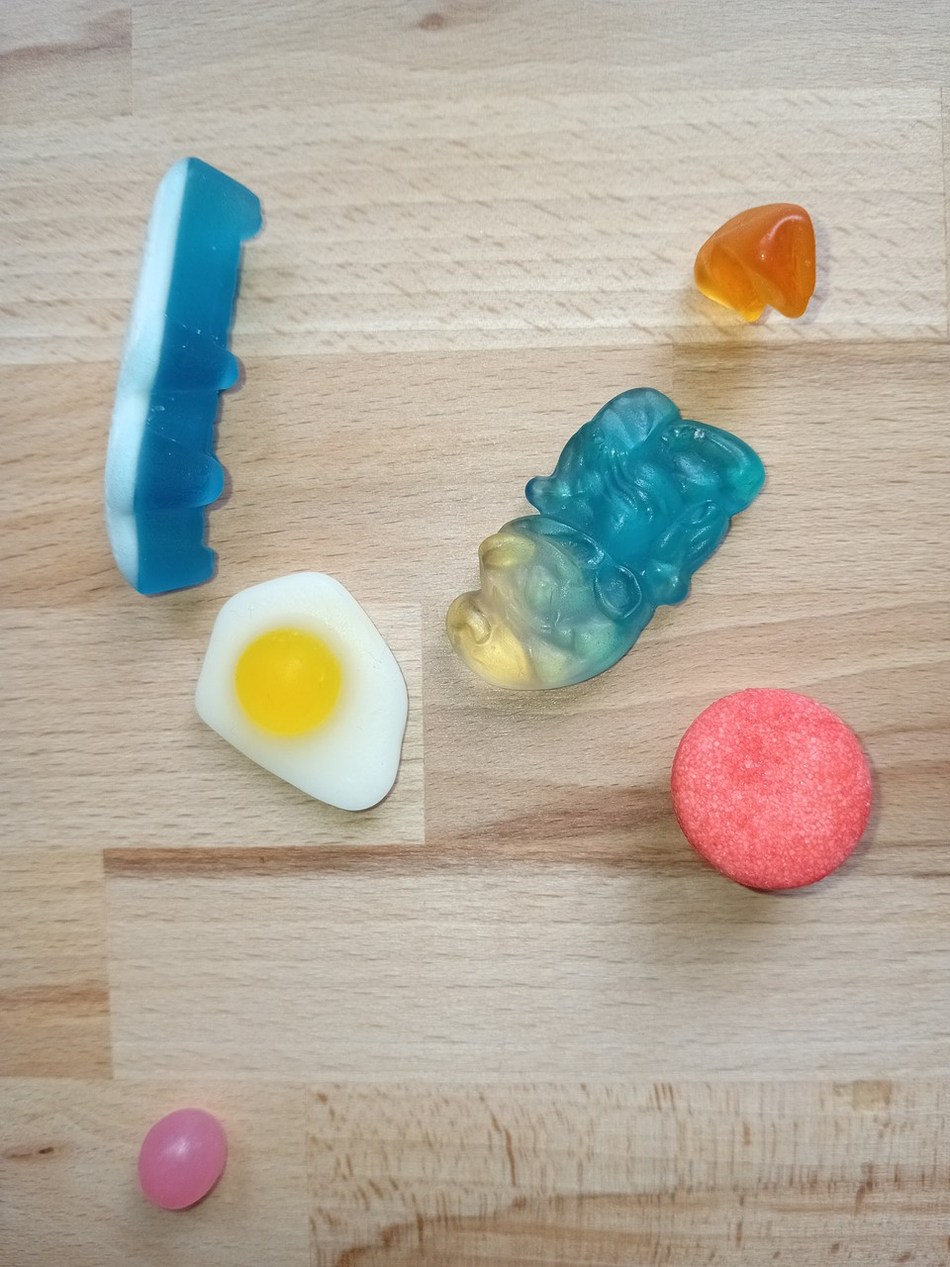crocodile_bleu: (97, 151, 270, 599)
dragibus_rose: (133, 1101, 230, 1217)
oeuf_oeuf: (191, 567, 419, 817)
ourson_orangeClair: (691, 194, 820, 331)
schtroumpf_bleu-blanc: (437, 385, 768, 695)
tagada_fraise: (669, 684, 880, 896)
